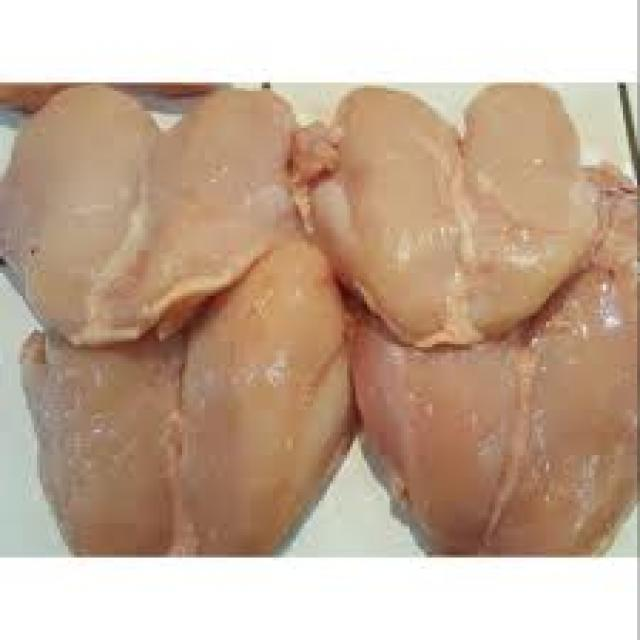chicken breast: (43, 346, 334, 574), (318, 86, 600, 317), (358, 342, 640, 572), (16, 96, 268, 292)
